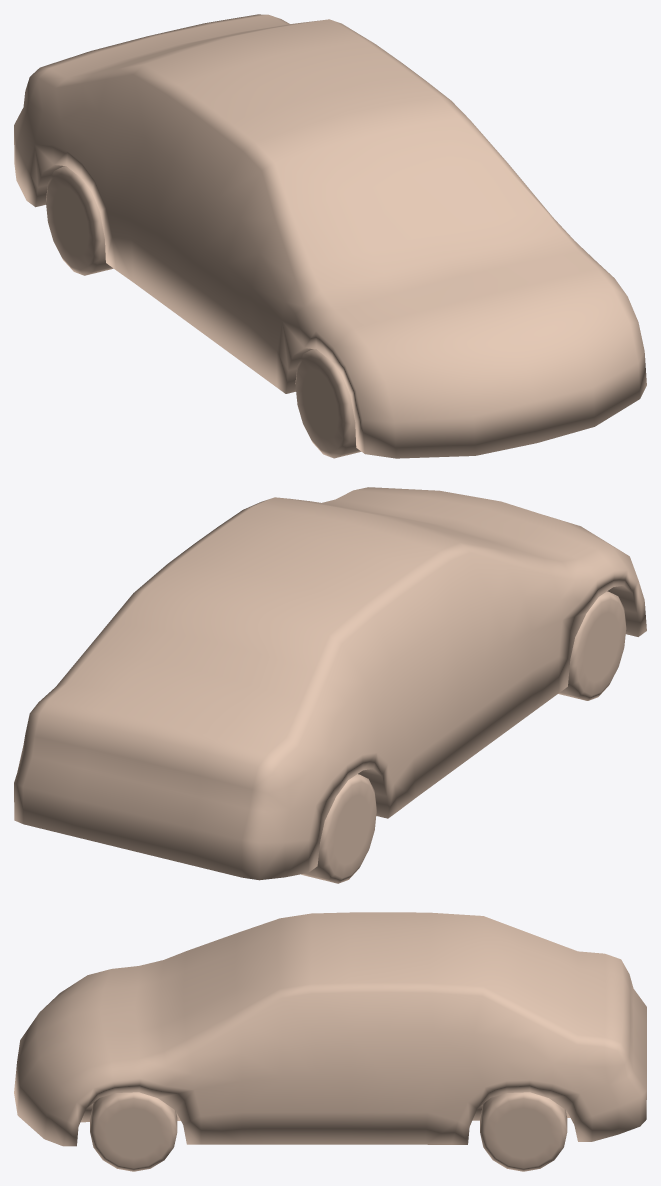
Rendered from Car.fbx.
3 renders of one model, top to bottom at view 1: azimuth 30°, elevation 25°; view 2: azimuth 150°, elevation 25°; view 3: azimuth 270°, elevation 25°, orthographic. The views are drawn at different scales.
Parts seen in each view (by area): view 1: Sedan:sedanCar, Sedan:wheel_front_right, Sedan:wheel_rear_right; view 2: Sedan:sedanCar, Sedan:wheel_rear_right, Sedan:wheel_front_right; view 3: Sedan:sedanCar, Sedan:wheel_rear_left, Sedan:wheel_front_left.
Part boxes in pixels (box(x1,y1,x2,y2)): Sedan:sedanCar: box(14, 14, 646, 458); Sedan:wheel_front_right: box(295, 349, 361, 458); Sedan:wheel_rear_right: box(46, 166, 113, 275); Sedan:sedanCar: box(14, 487, 646, 880); Sedan:wheel_rear_right: box(301, 774, 376, 883); Sedan:wheel_front_right: box(558, 591, 626, 700); Sedan:sedanCar: box(14, 912, 646, 1146); Sedan:wheel_rear_left: box(480, 1092, 567, 1171); Sedan:wheel_front_left: box(90, 1092, 177, 1171).
Bounding box in the file's own units: 12.58 × 9.63 × 31.3.
